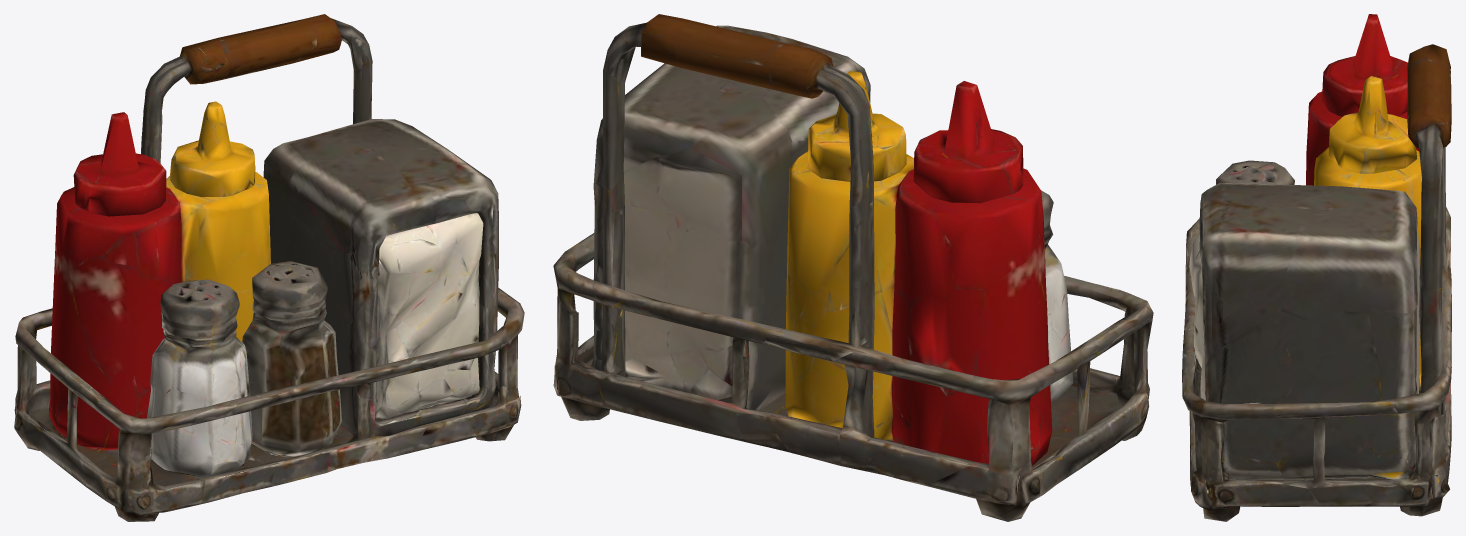
The model's file is d_condiments.glb.
3 views of the same model, side by side, from view 1: azimuth 30°, elevation 25°; view 2: azimuth 150°, elevation 25°; view 3: azimuth 270°, elevation 25° (orthographic). The views are drawn at different scales.
Bounding box in the file's own units: 1.9 × 1.58 × 1.04.
Materials: 1 (1 with a texture image).
